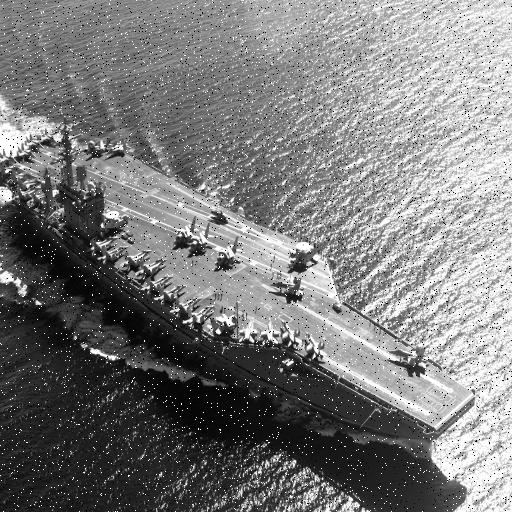Portanaves: (1, 104, 480, 453)
